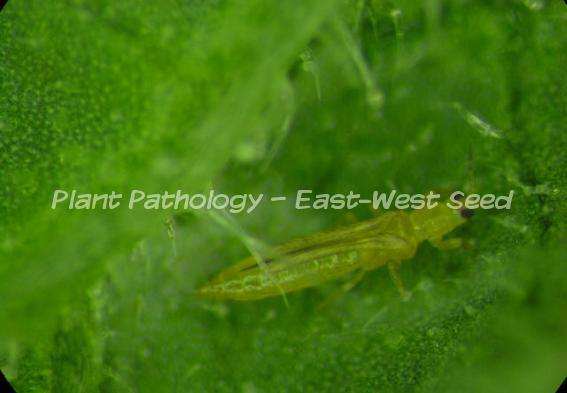Thrips: (199, 207, 459, 298)
